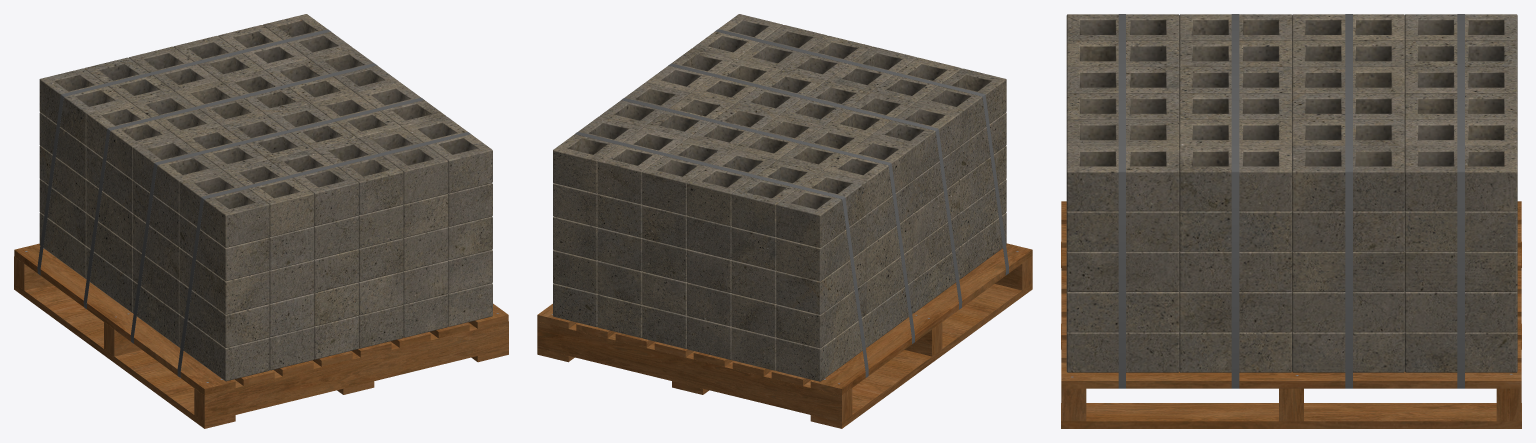
Rendered from brickpallet.glb.
3 views of the same model, side by side, from view 1: azimuth 30°, elevation 25°; view 2: azimuth 150°, elevation 25°; view 3: azimuth 270°, elevation 25° (orthographic). The views are drawn at different scales.
Visible parts, largest first — view 1: Object_2, Object_3, Object_4; view 2: Object_2, Object_3, Object_4; view 3: Object_2, Object_3, Object_4.
Part boxes in pixels (x1,y1,x2,y2): Object_2: (39, 14, 492, 381); Object_3: (14, 243, 508, 428); Object_4: (37, 29, 470, 377); Object_2: (553, 14, 1006, 381); Object_3: (537, 243, 1032, 428); Object_4: (575, 29, 1008, 377); Object_2: (1066, 14, 1517, 372); Object_3: (1061, 201, 1521, 428); Object_4: (1118, 14, 1464, 388).
Bounding box in the file's own units: 3.9 × 2.53 × 4.23.
3 materials, 3 textured.
